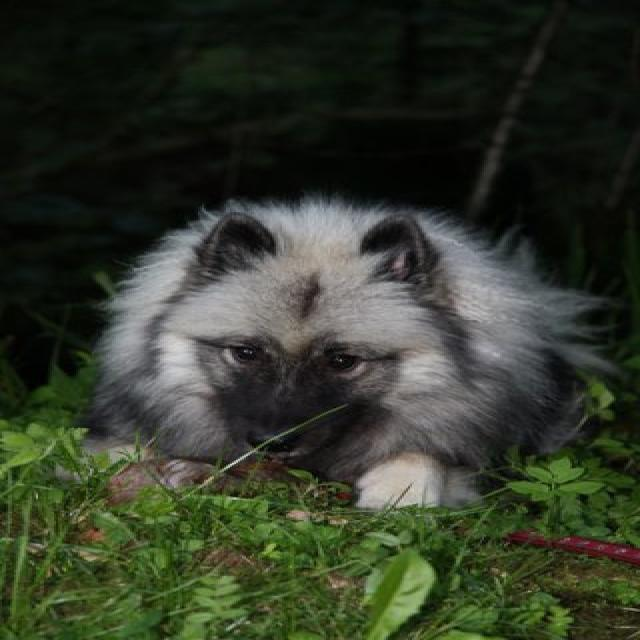dog-keeshond: (64, 193, 634, 532)
